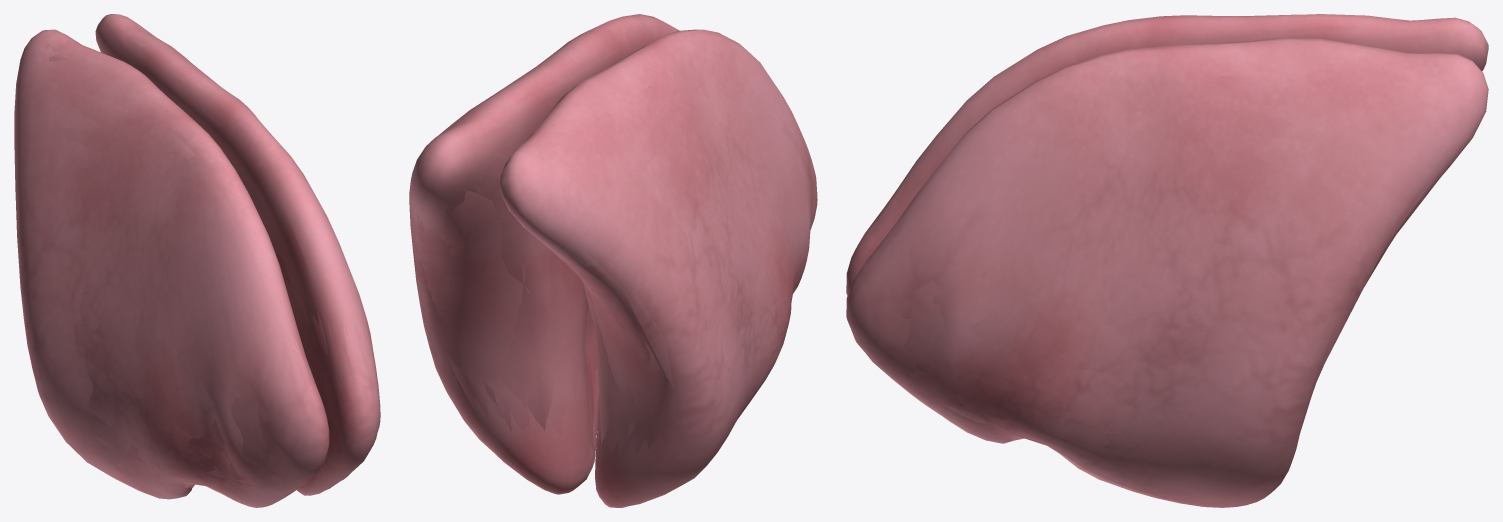
The model's file is Lungs.fbx.
3 views of the same model, side by side, from view 1: azimuth 30°, elevation 25°; view 2: azimuth 150°, elevation 25°; view 3: azimuth 270°, elevation 25° (orthographic). The views are drawn at different scales.
Visible parts, largest first — view 1: Lungs high, Lungs, Lungs low; view 2: Lungs high, Lungs, Lungs low; view 3: Lungs high, Lungs, Lungs low.
Boxes of the visible parts, x1,y1,x2,y2 form: Lungs high: (14, 14, 380, 507); Lungs: (44, 22, 367, 504); Lungs low: (49, 33, 360, 488); Lungs high: (409, 14, 817, 507); Lungs: (410, 38, 812, 489); Lungs low: (421, 52, 811, 451); Lungs high: (846, 14, 1488, 507); Lungs: (871, 16, 1444, 482); Lungs low: (872, 21, 1418, 453).
Size of the model in its own units: 5.08 by 7.49 by 9.42.
1 material, 1 textured.
